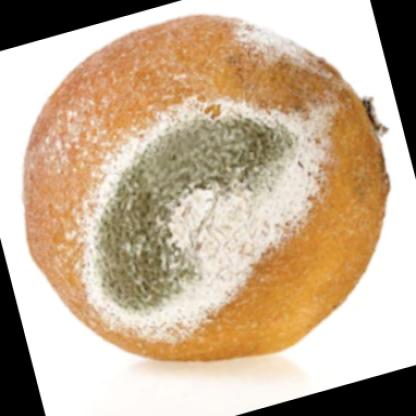rotten: (29, 13, 389, 360)
